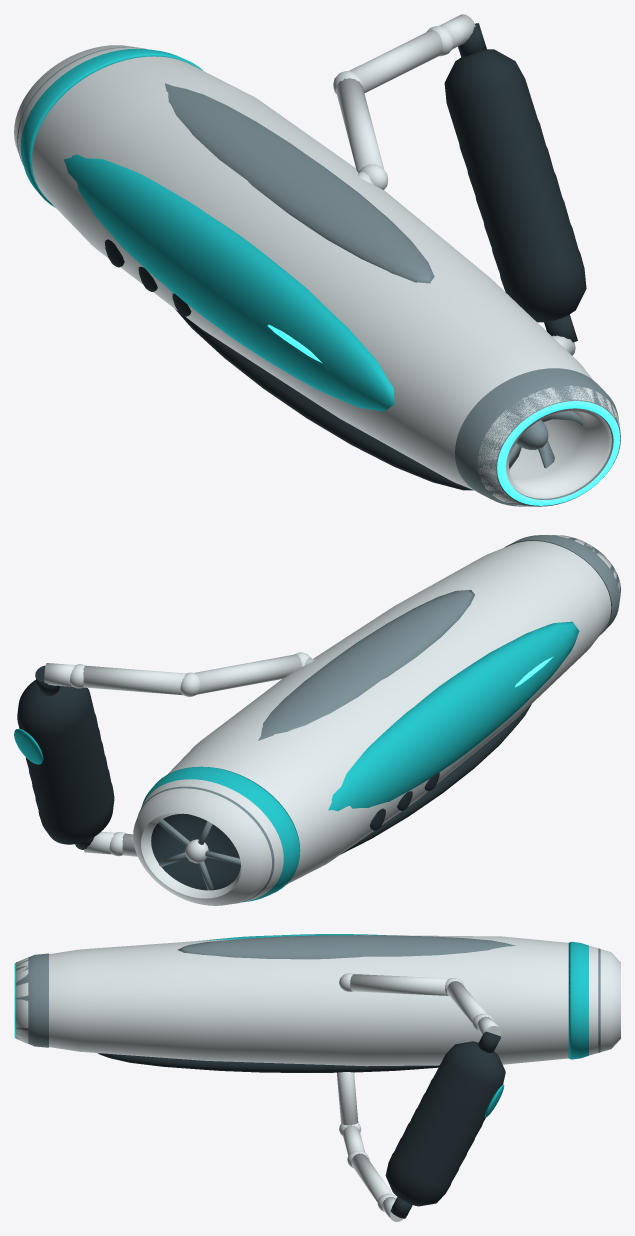
File: hand_thruster_left.glb
The picture shows the model from 3 angles, top to bottom: view 1: azimuth 30°, elevation 25°; view 2: azimuth 150°, elevation 25°; view 3: azimuth 270°, elevation 25°; orthographic projection. The views are drawn at different scales.
Visible parts, largest first — view 1: Ceramictitanium, Inlaidturquoise, Graphiteelastomer, Brushedtitanium, Statuslight, Impeller; view 2: Ceramictitanium, Inlaidturquoise, Graphiteelastomer, Brushedtitanium; view 3: Ceramictitanium, Graphiteelastomer, Brushedtitanium, Inlaidturquoise.
Part boxes in pixels (x1,y1,x2,y2): Ceramictitanium: (14, 14, 619, 506); Inlaidturquoise: (20, 48, 394, 411); Graphiteelastomer: (104, 23, 586, 490); Brushedtitanium: (17, 47, 620, 506); Statuslight: (267, 324, 620, 505); Impeller: (509, 411, 582, 469); Ceramictitanium: (44, 535, 620, 905); Inlaidturquoise: (14, 621, 579, 902); Graphiteelastomer: (17, 665, 531, 890); Brushedtitanium: (138, 535, 620, 904); Ceramictitanium: (15, 935, 620, 1221); Graphiteelastomer: (98, 1031, 505, 1218); Brushedtitanium: (15, 935, 600, 1052); Inlaidturquoise: (199, 934, 588, 1117).
Size of the model in its own units: 0.2092 by 0.1314 by 0.381.
